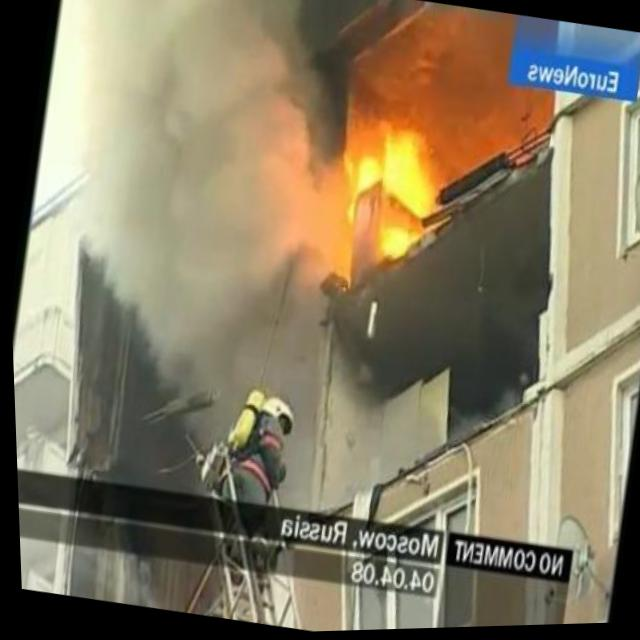fire: (319, 105, 462, 271)
